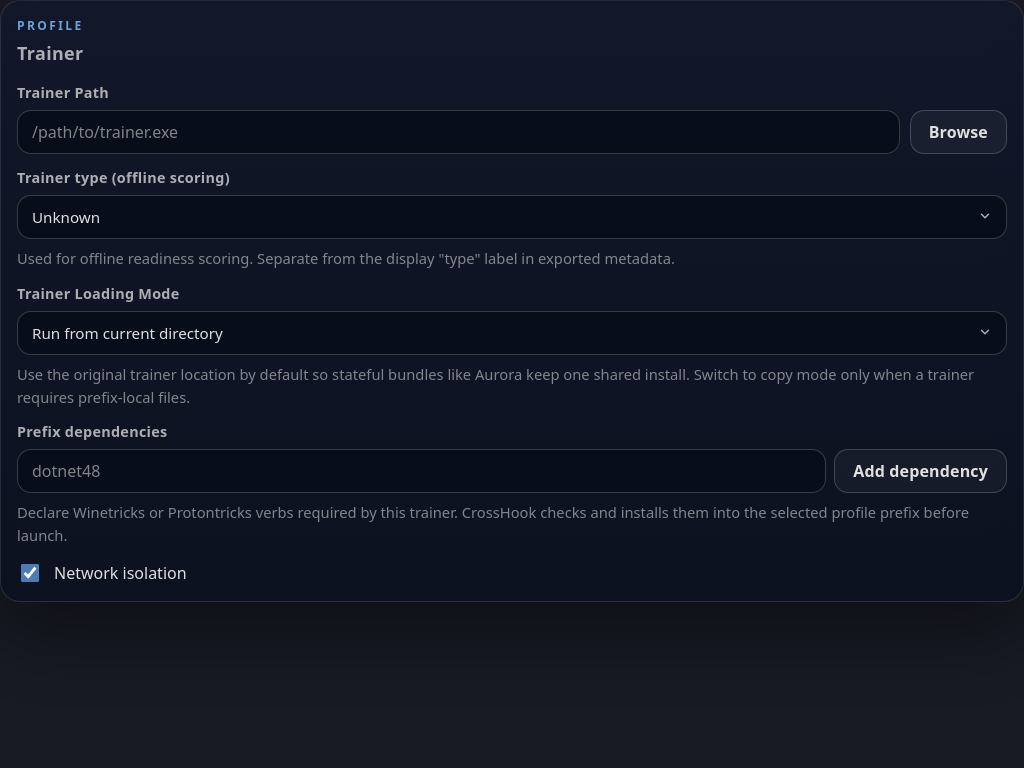
Test: TrainerSection prefix dependencies › rejects flag-like dependency input
In the field named "Add prefix dependency": (422, 471) x1=17 y1=449 x2=826 y2=493, type "--help"
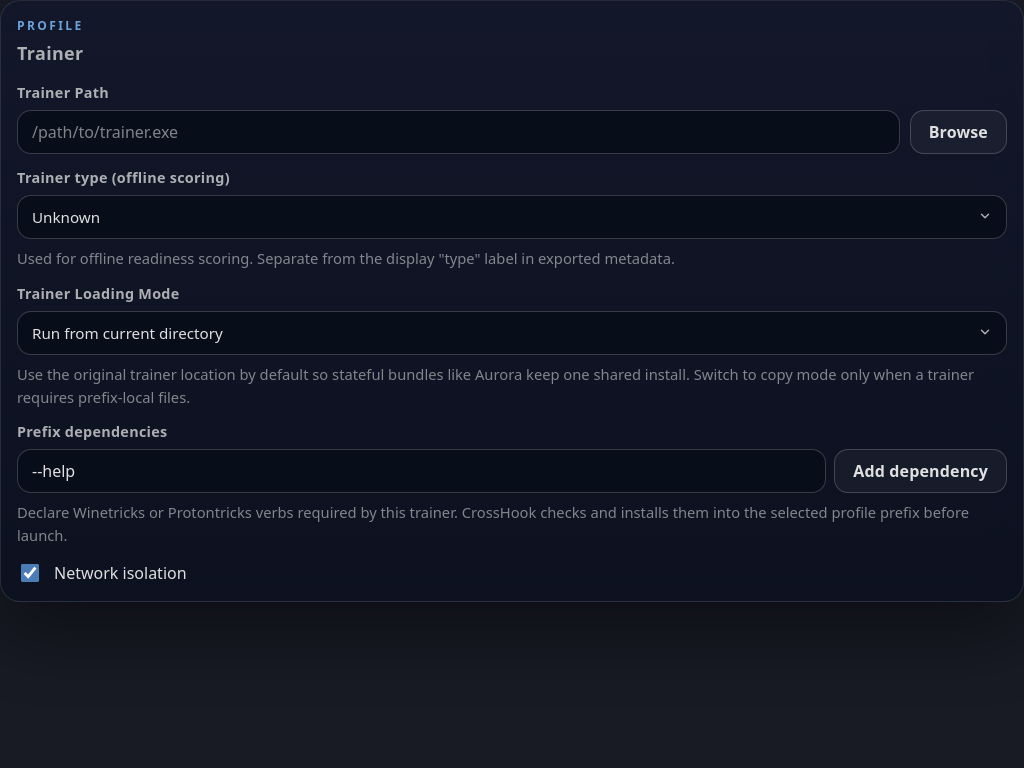
Click the button "Add dependency": (921, 471) x1=834 y1=449 x2=1007 y2=493
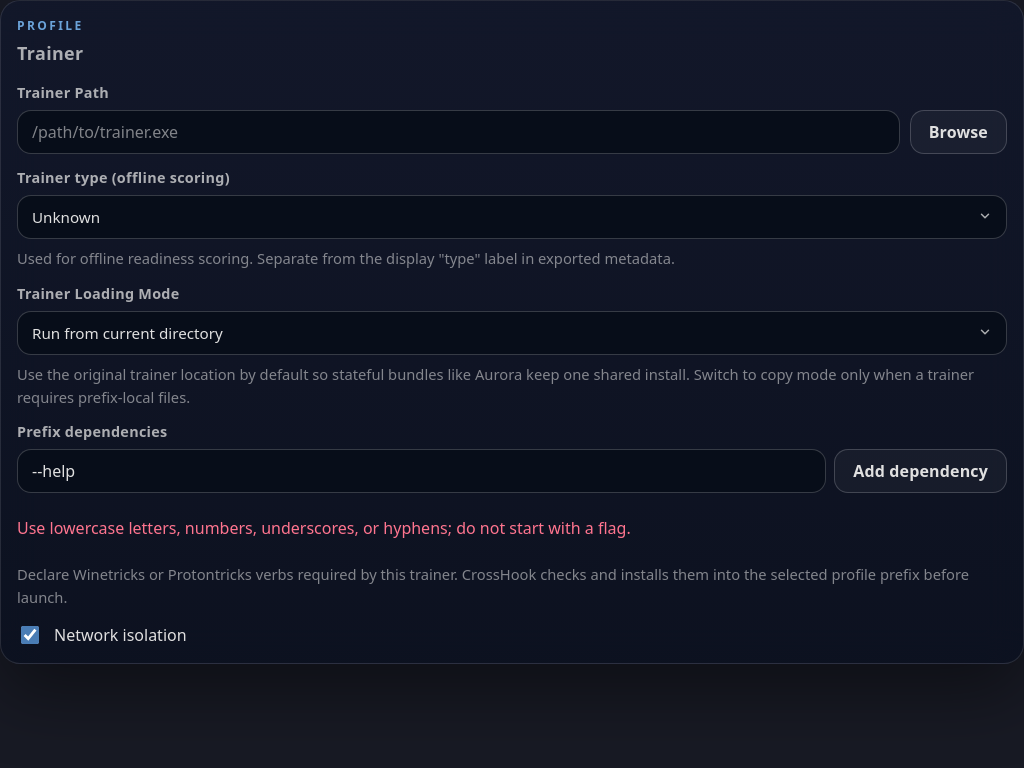
Now the message shows "lowercase letters, numbers, underscores, or hyphens", box x1=17 y1=517 x2=631 y2=539
